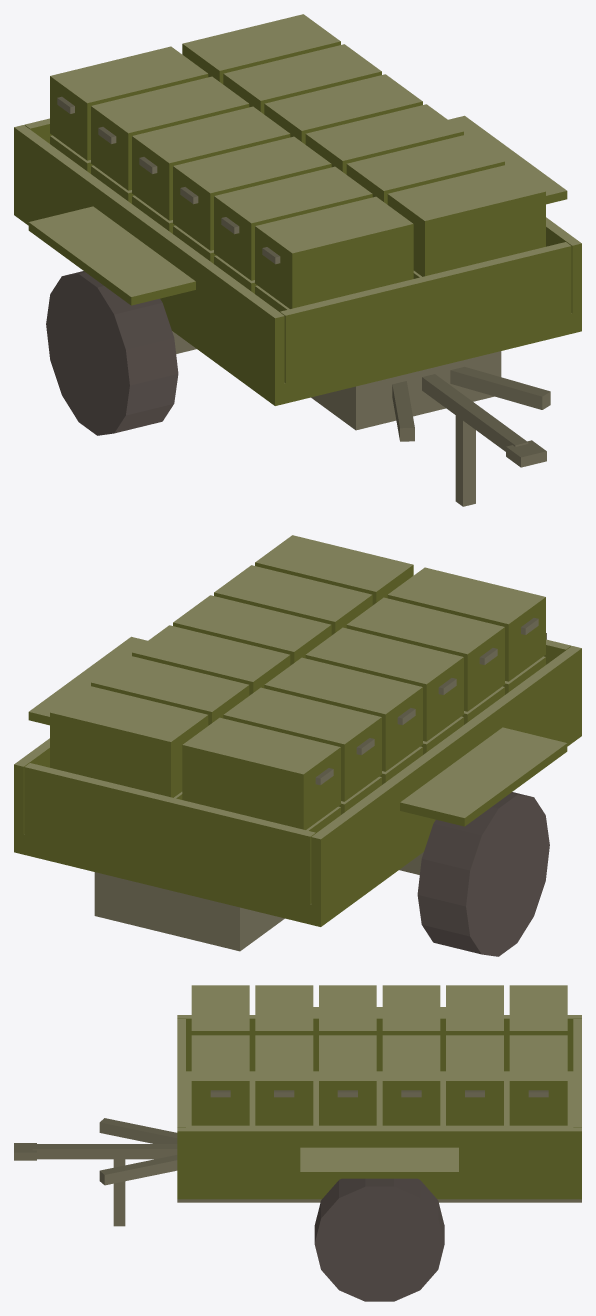
The model's file is SM_RemolqueMunicion_v0_Cargado_LOD0.fbx.
3 views of the same model, one above another, from view 1: azimuth 30°, elevation 25°; view 2: azimuth 150°, elevation 25°; view 3: azimuth 270°, elevation 25° (orthographic). The views are drawn at different scales.
Parts seen in each view (by area): view 1: SM_remolque_municion_v0_LOD0; view 2: SM_remolque_municion_v0_LOD0; view 3: SM_remolque_municion_v0_LOD0.
Boxes of the visible parts, bbox=[...] form: SM_remolque_municion_v0_LOD0: bbox=[14, 14, 581, 506]; SM_remolque_municion_v0_LOD0: bbox=[14, 535, 581, 956]; SM_remolque_municion_v0_LOD0: bbox=[14, 985, 581, 1301].
Bounding box in the file's own units: 2.7 × 1.45 × 3.93.
